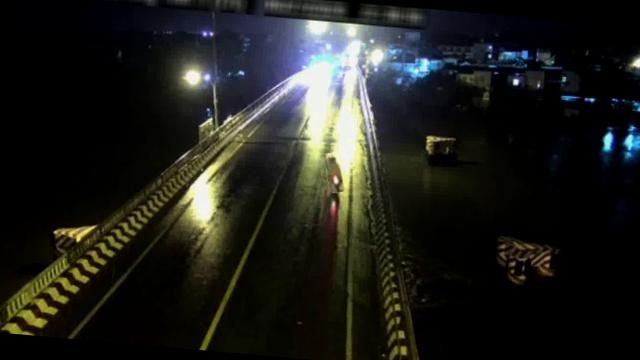Bike: (323, 152, 346, 194)
